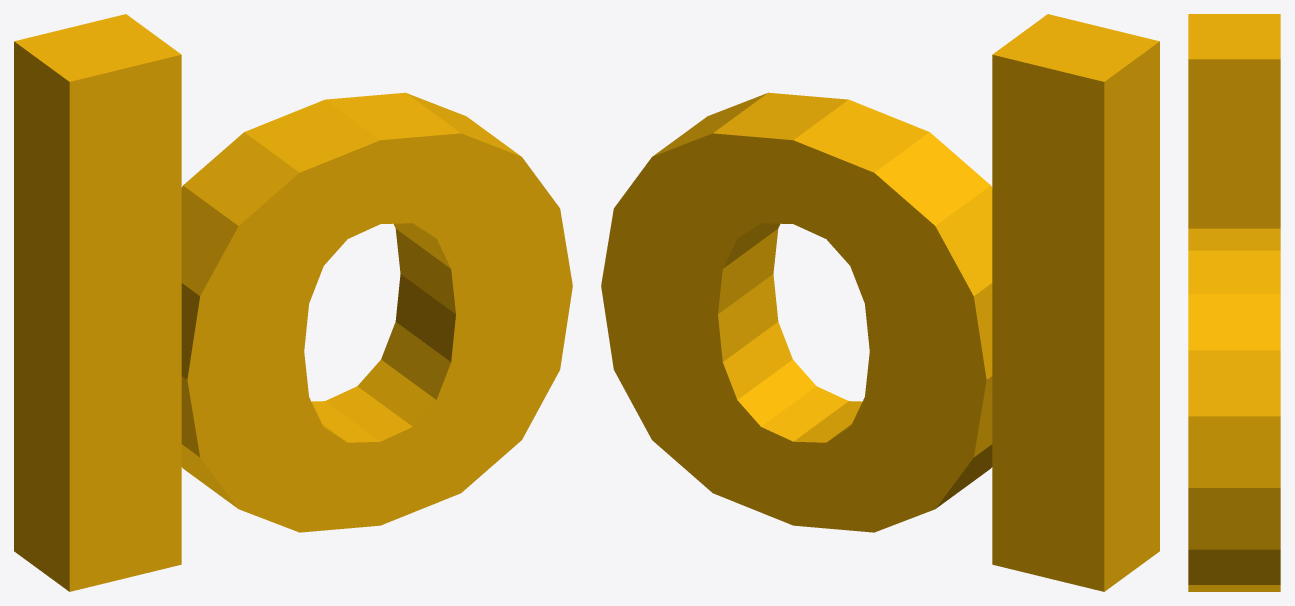
The model's file is suku_kecil_lo.glb.
The picture shows the model from 3 angles, left to right: view 1: azimuth 30°, elevation 25°; view 2: azimuth 150°, elevation 25°; view 3: azimuth 270°, elevation 25°; orthographic projection. The views are drawn at different scales.
Visible parts, largest first — view 1: geometry_0; view 2: geometry_0; view 3: geometry_0.
Boxes of the visible parts, x1,y1,x2,y2 form: geometry_0: (14,14,572,591); geometry_0: (601,14,1159,591); geometry_0: (1188,14,1280,591).
Bounding box in the file's own units: 7.85 × 7.74 × 1.5.
